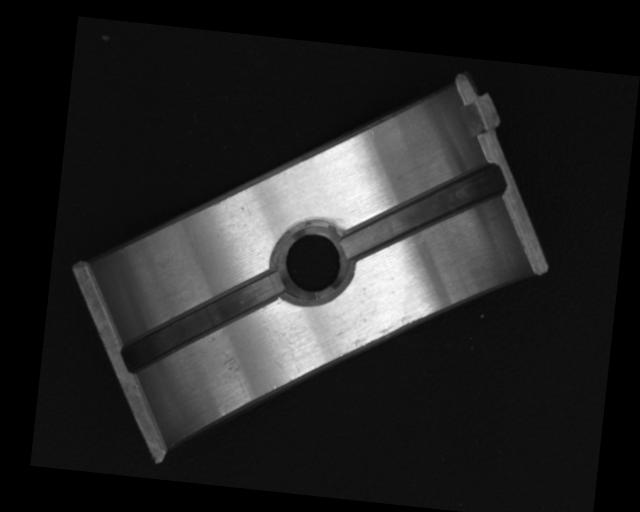gap: (119, 257, 287, 386), (342, 148, 506, 274)
hole: (271, 221, 352, 305)
